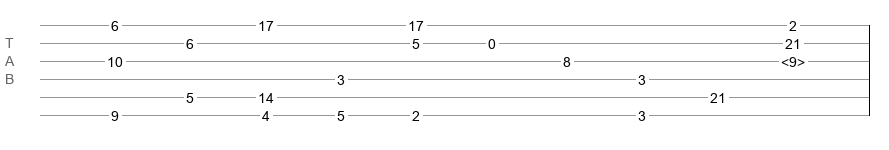0: (488, 36, 496, 46)
10: (107, 54, 123, 64)
14: (258, 90, 274, 100)
17: (258, 18, 274, 28), (408, 18, 424, 28)
2: (412, 108, 420, 118), (789, 18, 797, 28)
21: (710, 90, 726, 100), (785, 36, 801, 46)
3: (337, 72, 345, 82), (638, 72, 646, 82), (638, 108, 646, 118)
4: (262, 108, 270, 118)
5: (186, 90, 194, 100), (337, 108, 345, 118), (412, 36, 420, 46)
6: (111, 18, 119, 28), (186, 36, 194, 46)
8: (563, 54, 571, 64)
9: (111, 108, 119, 118)
harmonic: (781, 54, 805, 64)
